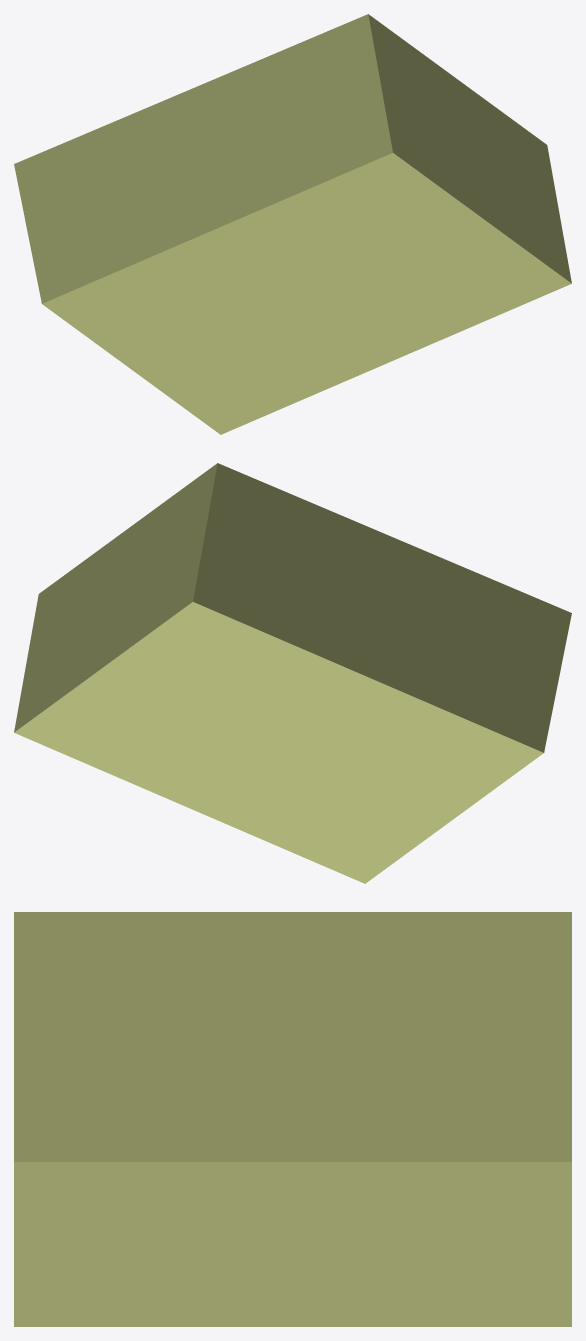
3 renders of one model, top to bottom at view 1: azimuth 30°, elevation 25°; view 2: azimuth 150°, elevation 25°; view 3: azimuth 270°, elevation 25°, orthographic. The views are drawn at different scales.
Visible parts, largest first — view 1: 0_1_2_0_3_3_0_3_1_2_3; view 2: 0_1_2_0_3_3_0_3_1_2_3; view 3: 0_1_2_0_3_3_0_3_1_2_3.
Boxes of the visible parts, x1,y1,x2,y2 form: 0_1_2_0_3_3_0_3_1_2_3: (14, 14, 571, 434); 0_1_2_0_3_3_0_3_1_2_3: (14, 463, 571, 883); 0_1_2_0_3_3_0_3_1_2_3: (14, 912, 571, 1326).
Size of the model in its own units: 11.01 by 5.84 by 9.
